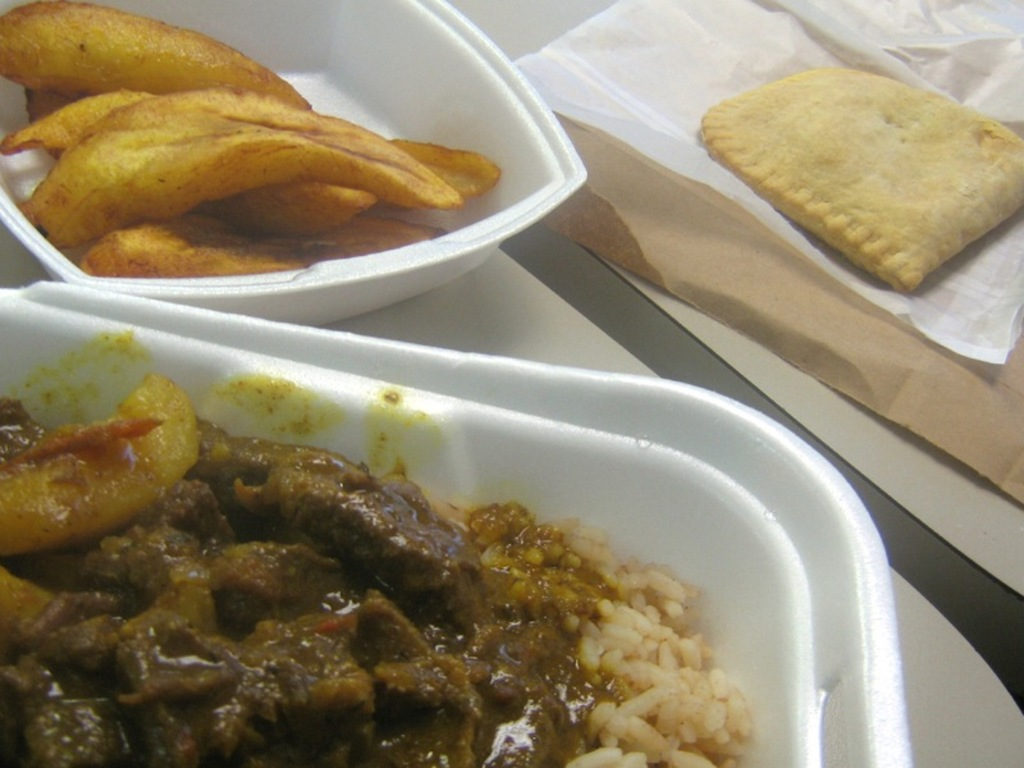French fries: (29, 71, 469, 266)
